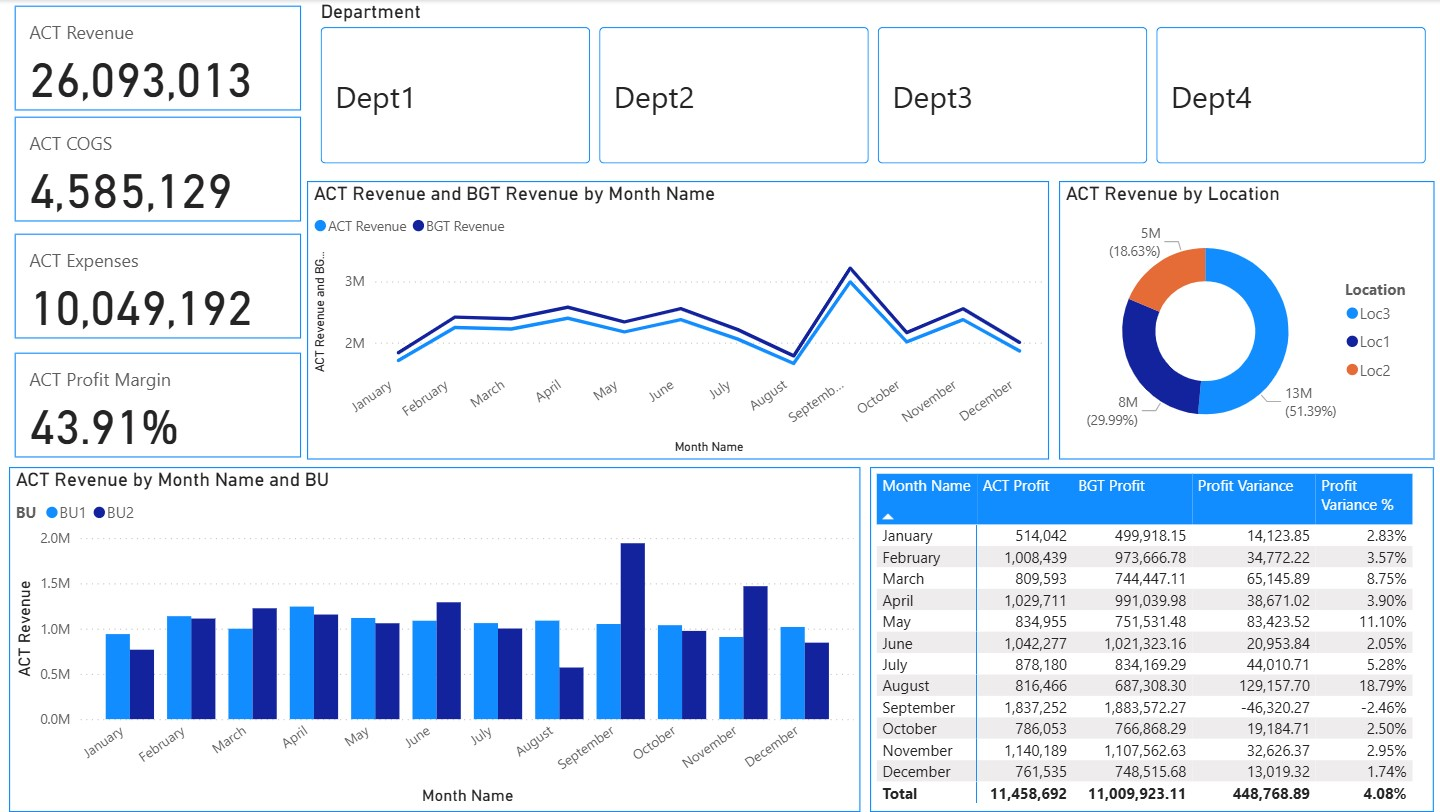

The page's visual inventory and layout, read from the dashboard file:
{"tool":"powerbi","page":{"name":"Page 1","canvas":[1280,720],"ordinal":0},"visuals":[{"type":"cardVisual","fields":{"Data":["Actual Data.Revenue"]},"box":[9.8,0,264.2,103.7],"z":0},{"type":"cardVisual","fields":{"Data":["Actual Data.COGS"]},"box":[9.8,98.4,264.2,103.7],"z":1000},{"type":"cardVisual","fields":{"Data":["Actual Data.Expenses"]},"box":[9.8,202.2,264.2,103.7],"z":2000},{"type":"cardVisual","fields":{"Data":["Actual Data.Gross Profit Margin"]},"box":[9.8,307.7,264.2,103.7],"z":3000},{"type":"lineChart","fields":{"Category":["Date Table.Month Name"],"Y":["Actual Data.ACT Revenue","Budget Data.BGT Revenue"]},"box":[274,160.5,657.9,247.4],"z":4000},{"type":"donutChart","fields":{"Y":["Actual Data.ACT Revenue"],"Category":["Actual Data.Location"]},"box":[940.8,160.5,332.5,247.4],"z":5000},{"type":"clusteredColumnChart","fields":{"Category":["Date Table.Month Name"],"Series":["Actual Data.BU"],"Y":["Actual Data.ACT Revenue"]},"box":[9.8,414.1,755.5,305.9],"z":6000},{"type":"pivotTable","fields":{"Rows":["Date Table.Month Name"],"Values":["Actual Data.ACT Profit","Budget Data.BGT Profit","Actual Data.Profit Variance","Actual Data.Profit Variance %"]},"box":[773.2,414.1,500.1,305.9],"z":7000},{"type":"advancedSlicerVisual","fields":{"Values":["Budget Data.Department"]},"box":[281.1,0,992.2,150.7],"z":8000}]}

Visuals, with their boxes in screenshot pixels (x1, y1, x2, y2), scaled from the page's 1280x720 canvas onto the 1440x812 screenshot:
cardVisual - Actual Data.Revenue: x1=11 y1=0 x2=308 y2=117
cardVisual - Actual Data.COGS: x1=11 y1=111 x2=308 y2=228
cardVisual - Actual Data.Expenses: x1=11 y1=228 x2=308 y2=345
cardVisual - Actual Data.Gross Profit Margin: x1=11 y1=347 x2=308 y2=464
lineChart - Date Table.Month Name x Actual Data.ACT Revenue: x1=308 y1=181 x2=1048 y2=460
donutChart - Actual Data.ACT Revenue x Actual Data.Location: x1=1058 y1=181 x2=1432 y2=460
clusteredColumnChart - Date Table.Month Name x Actual Data.BU: x1=11 y1=467 x2=861 y2=811
pivotTable - Date Table.Month Name x Actual Data.ACT Profit: x1=870 y1=467 x2=1432 y2=811
advancedSlicerVisual - Budget Data.Department: x1=316 y1=0 x2=1432 y2=170
